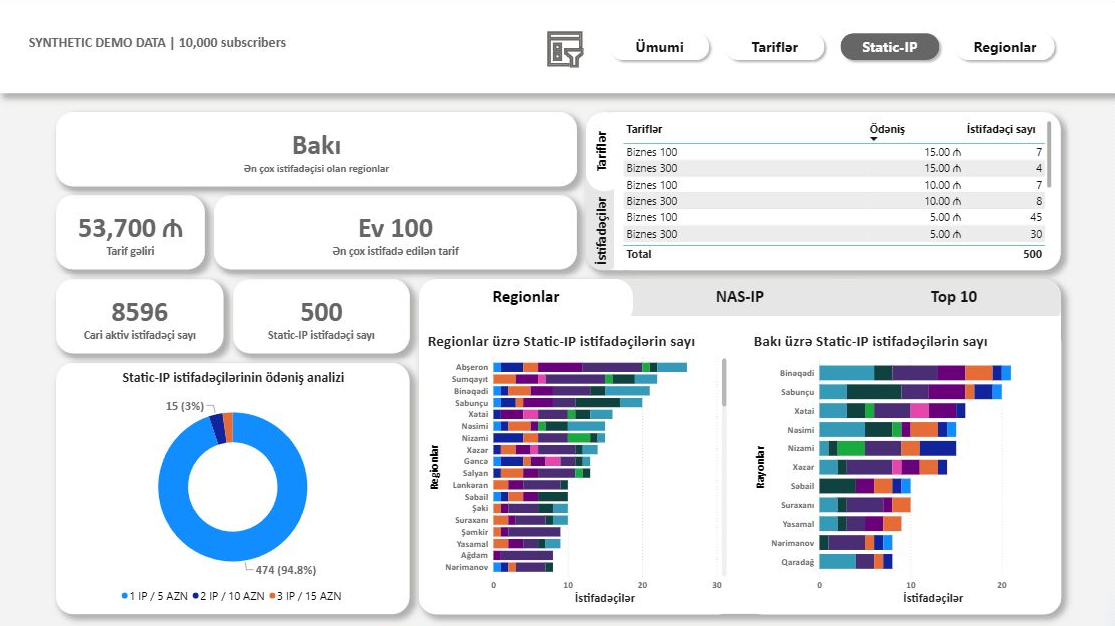

What the dashboard file says about the page in this screenshot:
{"tool":"powerbi","page":{"name":"Static-IP","canvas":[1920,1080],"ordinal":2},"visuals":[{"type":"shape","box":[0,0,1920,160],"z":0,"group":"g1"},{"type":"group","id":"g1","title":"Ribbon","box":[0,0,1920,160],"z":0},{"type":"barChart","title":"Regionlar üzrə Static-IP istifadəçilərin sayı","fields":{"Category":["butun_musteriler.combined_regions"],"Series":["butun_musteriler.tariff"],"Y":["static_ip.distinct_static_subscribers"]},"box":[720,560,544,496],"z":0,"group":"g2"},{"type":"card","title":"Static istifadəçi sayı","fields":{"Values":["Min(static_ip.username)"]},"box":[400,480,304,128],"z":1000},{"type":"barChart","title":"Bakı üzrə Static-IP istifadəçilərin sayı","fields":{"Category":["butun_musteriler.baku_regions"],"Series":["butun_musteriler.tariff"],"Y":["static_ip.distinct_static_subscribers"]},"box":[1280,560,544,496],"z":1000,"group":"g2"},{"type":"actionButton","title":"Filter","box":[936,48,72,72],"z":2000,"group":"g1"},{"type":"shape","title":"Small Background","box":[1008,192,816,272],"z":2000},{"type":"pageNavigator","box":[1040,48,784,64],"z":3000,"group":"g1"},{"type":"card","title":"Total istifadəçi","fields":{"Values":["Calendar.total_customers"]},"box":[96,480,288,128],"z":3000},{"type":"card","title":"Gəlir","fields":{"Values":["Sum(static_ip.bill_fee)"]},"box":[96,336,256,128],"z":4000},{"type":"card","title":"Tarif","fields":{"Values":["Calendar.top_tariff_count"]},"box":[368,336,624,128],"z":5000},{"type":"donutChart","title":"Static-IP istifadəçilərinin ödəniş analizi","fields":{"Category":["static_ip.bill_fee (groups)"],"Series":["static_ip.bill_fee"],"Y":["static_ip.distinct_static_subscribers"]},"box":[96,624,608,432],"z":6000},{"type":"card","title":"Region","fields":{"Values":["Calendar.top_region_count"]},"box":[96,192,896,128],"z":7000},{"type":"shape","title":"Background","box":[720,480,1104,576],"z":8000},{"type":"shape","title":"center","box":[720,480,1104,64],"z":9375},{"type":"bookmarkNavigator","box":[720,480,1104,80],"z":10750},{"type":"shape","title":"3lü tab -------------","box":[720,544,1104,32],"z":18000},{"type":"group","id":"g2","title":"Regionlar","box":[720,560,1104,496],"z":19000},{"type":"shape","title":"Center","box":[1008,192,64,272],"z":22000},{"type":"tableEx","title":"Total Tarif table","fields":{"Values":["butun_musteriler.tariff","static_ip.bill_fee","static_ip.username"]},"box":[1056,192,768,272],"z":23000},{"type":"bookmarkNavigator","box":[1008,192,64,272],"z":28500},{"type":"shape","box":[1056,192,16,272],"z":29000},{"type":"shape","box":[40,48,620,48],"z":90000}]}

Visuals, with their boxes in screenshot pixels (x1, y1, x2, y2), scaled from the page's 1920x1080 canvas onto the 1115x626 screenshot:
shape: left=0, top=0, right=1114, bottom=93
"Ribbon" group: left=0, top=0, right=1114, bottom=93
"Regionlar üzrə Static-IP istifadəçilərin sayı" barChart: left=418, top=325, right=734, bottom=612
"Static istifadəçi sayı" card: left=232, top=278, right=409, bottom=352
"Bakı üzrə Static-IP istifadəçilərin sayı" barChart: left=743, top=325, right=1059, bottom=612
"Filter" actionButton: left=544, top=28, right=585, bottom=70
"Small Background" shape: left=585, top=111, right=1059, bottom=269
pageNavigator: left=604, top=28, right=1059, bottom=65
"Total istifadəçi" card: left=56, top=278, right=223, bottom=352
"Gəlir" card: left=56, top=195, right=204, bottom=269
"Tarif" card: left=214, top=195, right=576, bottom=269
"Static-IP istifadəçilərinin ödəniş analizi" donutChart: left=56, top=362, right=409, bottom=612
"Region" card: left=56, top=111, right=576, bottom=185
"Background" shape: left=418, top=278, right=1059, bottom=612
"center" shape: left=418, top=278, right=1059, bottom=315
bookmarkNavigator: left=418, top=278, right=1059, bottom=325
"3lü tab -------------" shape: left=418, top=315, right=1059, bottom=334
"Regionlar" group: left=418, top=325, right=1059, bottom=612
"Center" shape: left=585, top=111, right=623, bottom=269
"Total Tarif table" tableEx: left=613, top=111, right=1059, bottom=269
bookmarkNavigator: left=585, top=111, right=623, bottom=269
shape: left=613, top=111, right=623, bottom=269
shape: left=23, top=28, right=383, bottom=56
